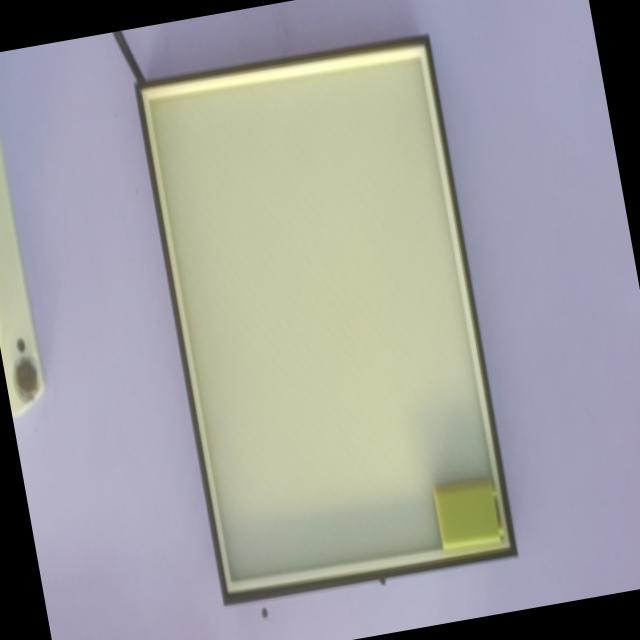bateria: (432, 476, 504, 550)
mesa: (134, 34, 517, 606)
